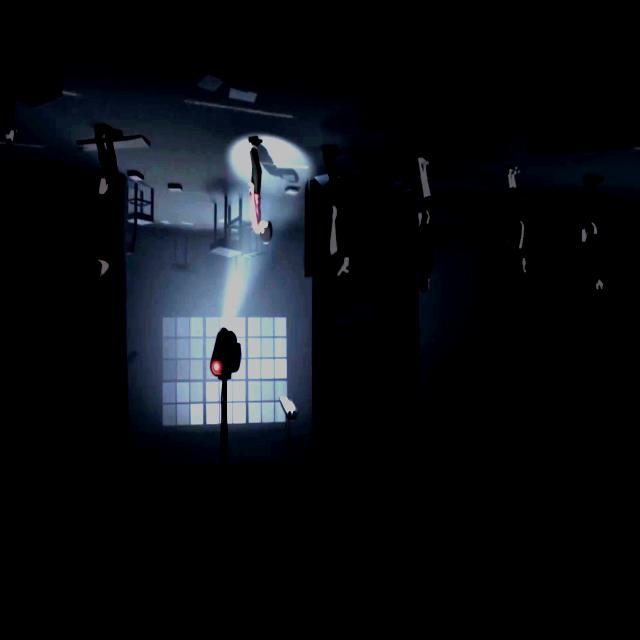boy: (248, 134, 272, 246)
zombie: (92, 127, 120, 279), (323, 146, 354, 282), (580, 174, 604, 299), (504, 167, 528, 276), (417, 159, 436, 292)
